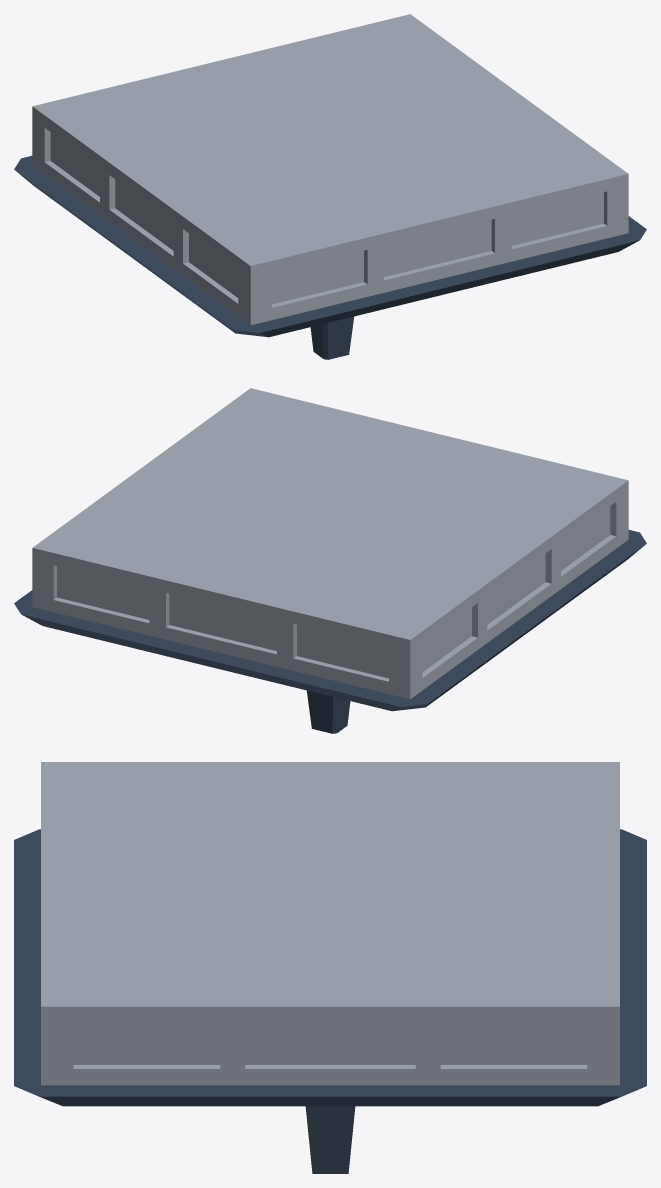
The model's file is SP_Platform.glb.
The picture shows the model from 3 angles, top to bottom: view 1: azimuth 30°, elevation 25°; view 2: azimuth 150°, elevation 25°; view 3: azimuth 270°, elevation 25°; orthographic projection. The views are drawn at different scales.
Visible parts, largest first — view 1: SP_Platform__deck, SP_Platform__skirt, SP_Platform__strut; view 2: SP_Platform__deck, SP_Platform__skirt, SP_Platform__strut; view 3: SP_Platform__deck, SP_Platform__skirt, SP_Platform__strut.
Part boxes in pixels (x1=…): SP_Platform__deck: x1=32, y1=14, x2=628, y2=325; SP_Platform__skirt: x1=14, y1=156, x2=646, y2=337; SP_Platform__strut: x1=310, y1=316, x2=353, y2=359; SP_Platform__deck: x1=32, y1=388, x2=628, y2=699; SP_Platform__skirt: x1=14, y1=530, x2=646, y2=711; SP_Platform__strut: x1=307, y1=690, x2=350, y2=733; SP_Platform__deck: x1=41, y1=762, x2=619, y2=1085; SP_Platform__skirt: x1=14, y1=829, x2=646, y2=1106; SP_Platform__strut: x1=305, y1=1106, x2=355, y2=1173.
Bounding box in the file's own units: 17.5 × 8.6 × 17.5.
